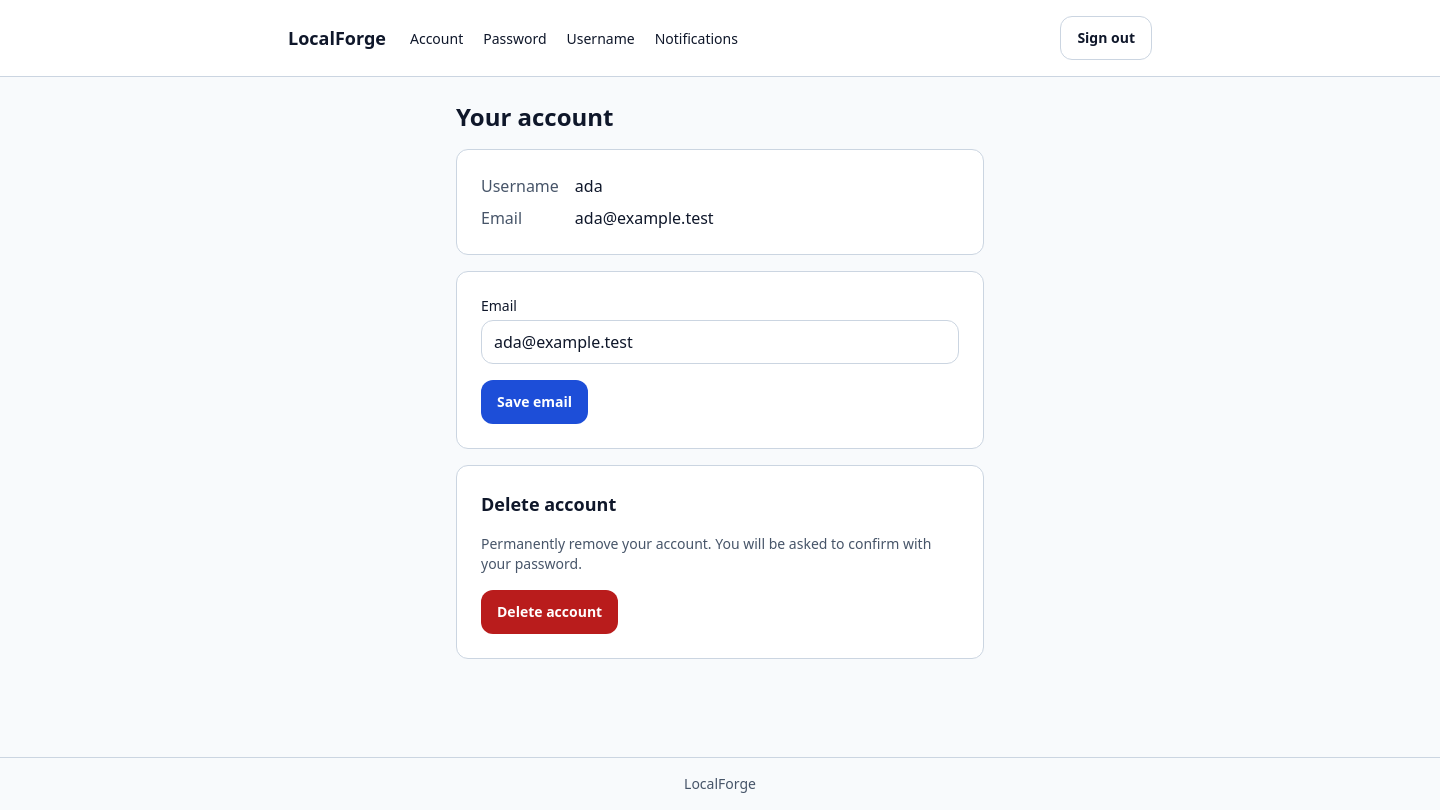
Scenario: the live feed › collects notifications while the person is on another page
Click the link "Notifications".
click(696, 38)  # box [655, 29, 738, 48]
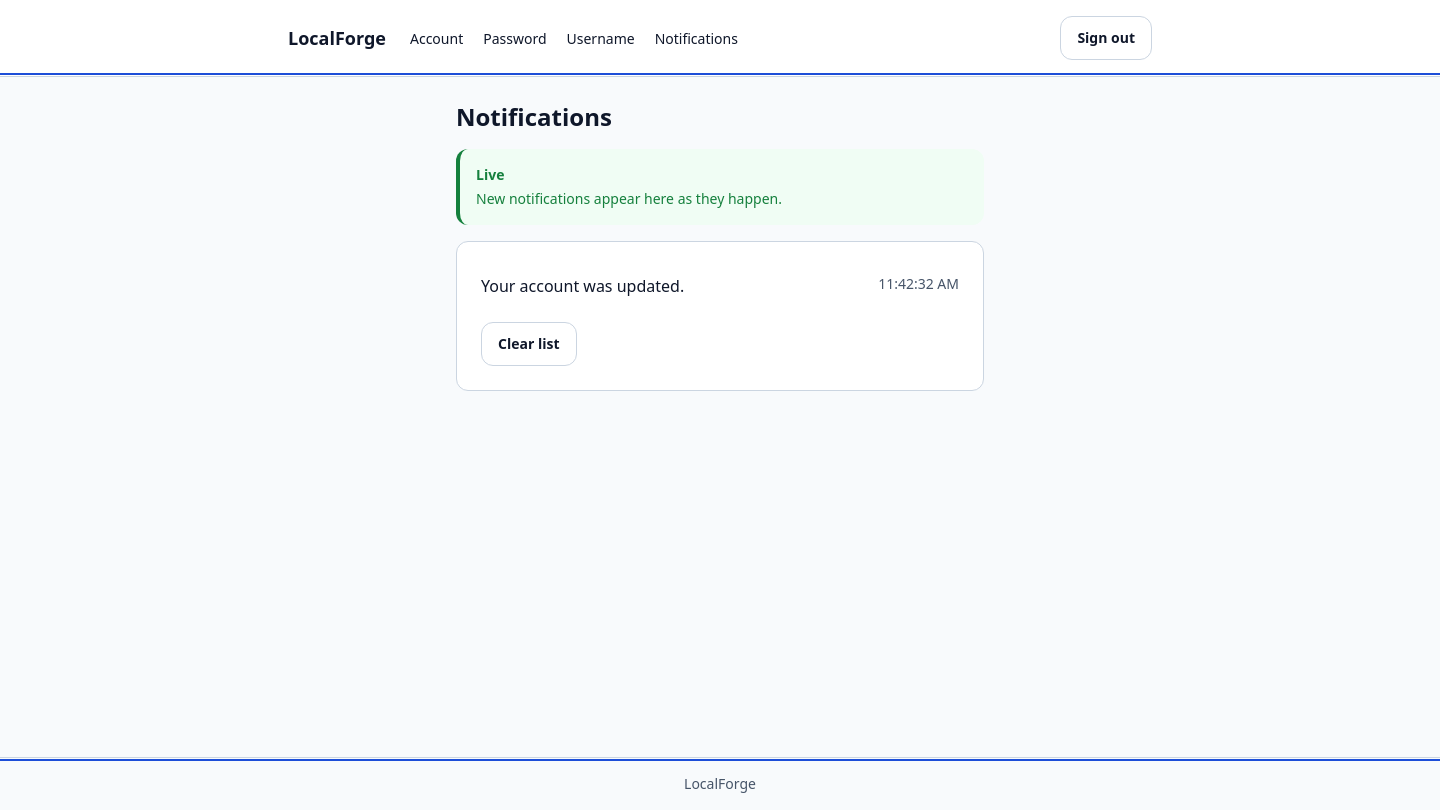
Expected: the list item "Your account was updated. 11:42:32 AM" is shown, [481, 274, 959, 297]
